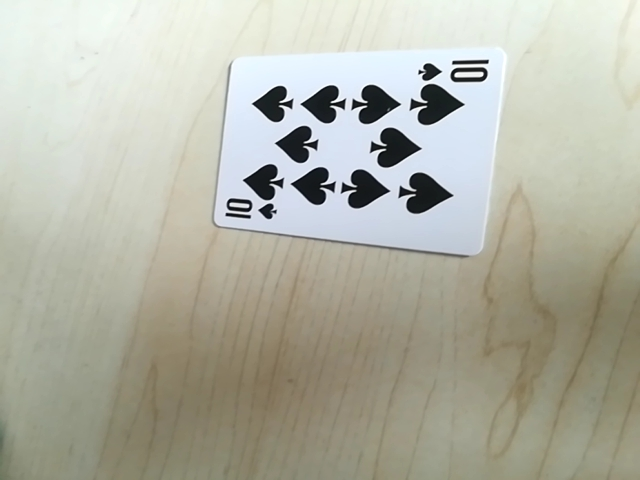ht 10: (416, 55, 493, 85), (219, 198, 280, 227)
